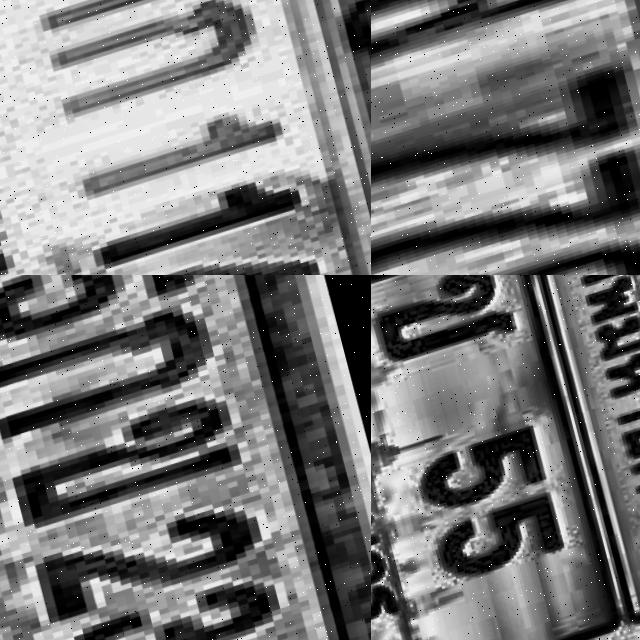license-plate: (0, 275, 371, 640), (0, 0, 371, 275), (371, 275, 626, 640), (371, 0, 640, 275), (482, 275, 640, 640)
